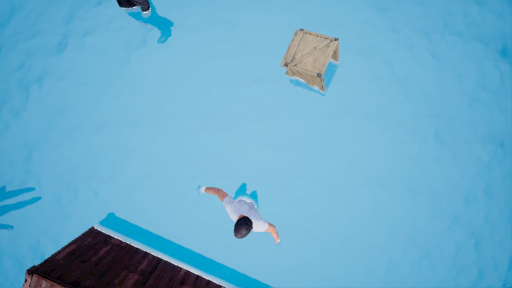person: (206, 184, 291, 248)
